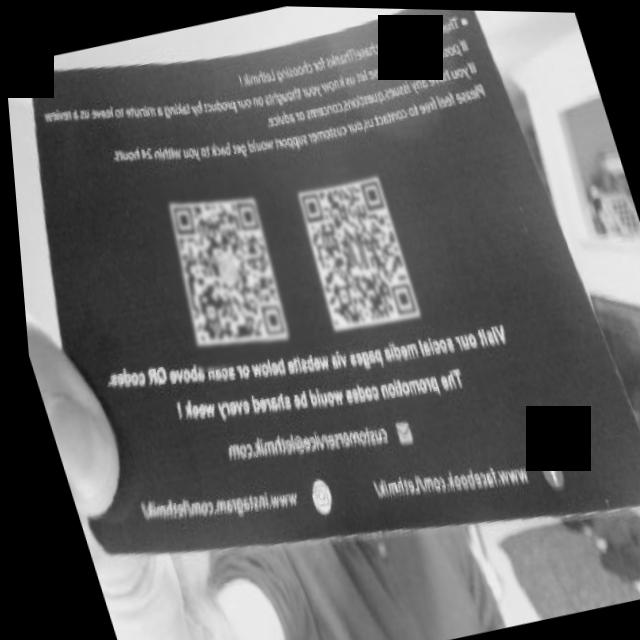QR_CODE: (137, 162, 311, 374), (277, 148, 428, 343)
